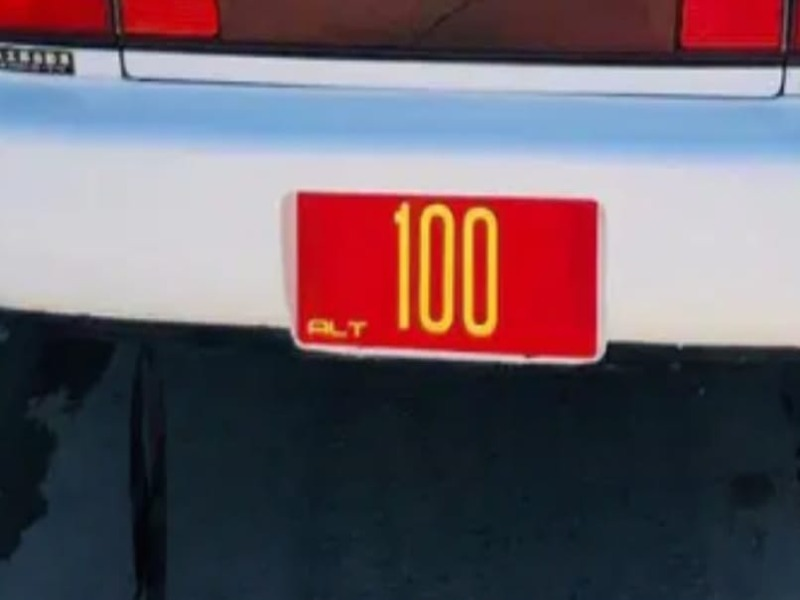License Plate: (286, 190, 602, 367)
